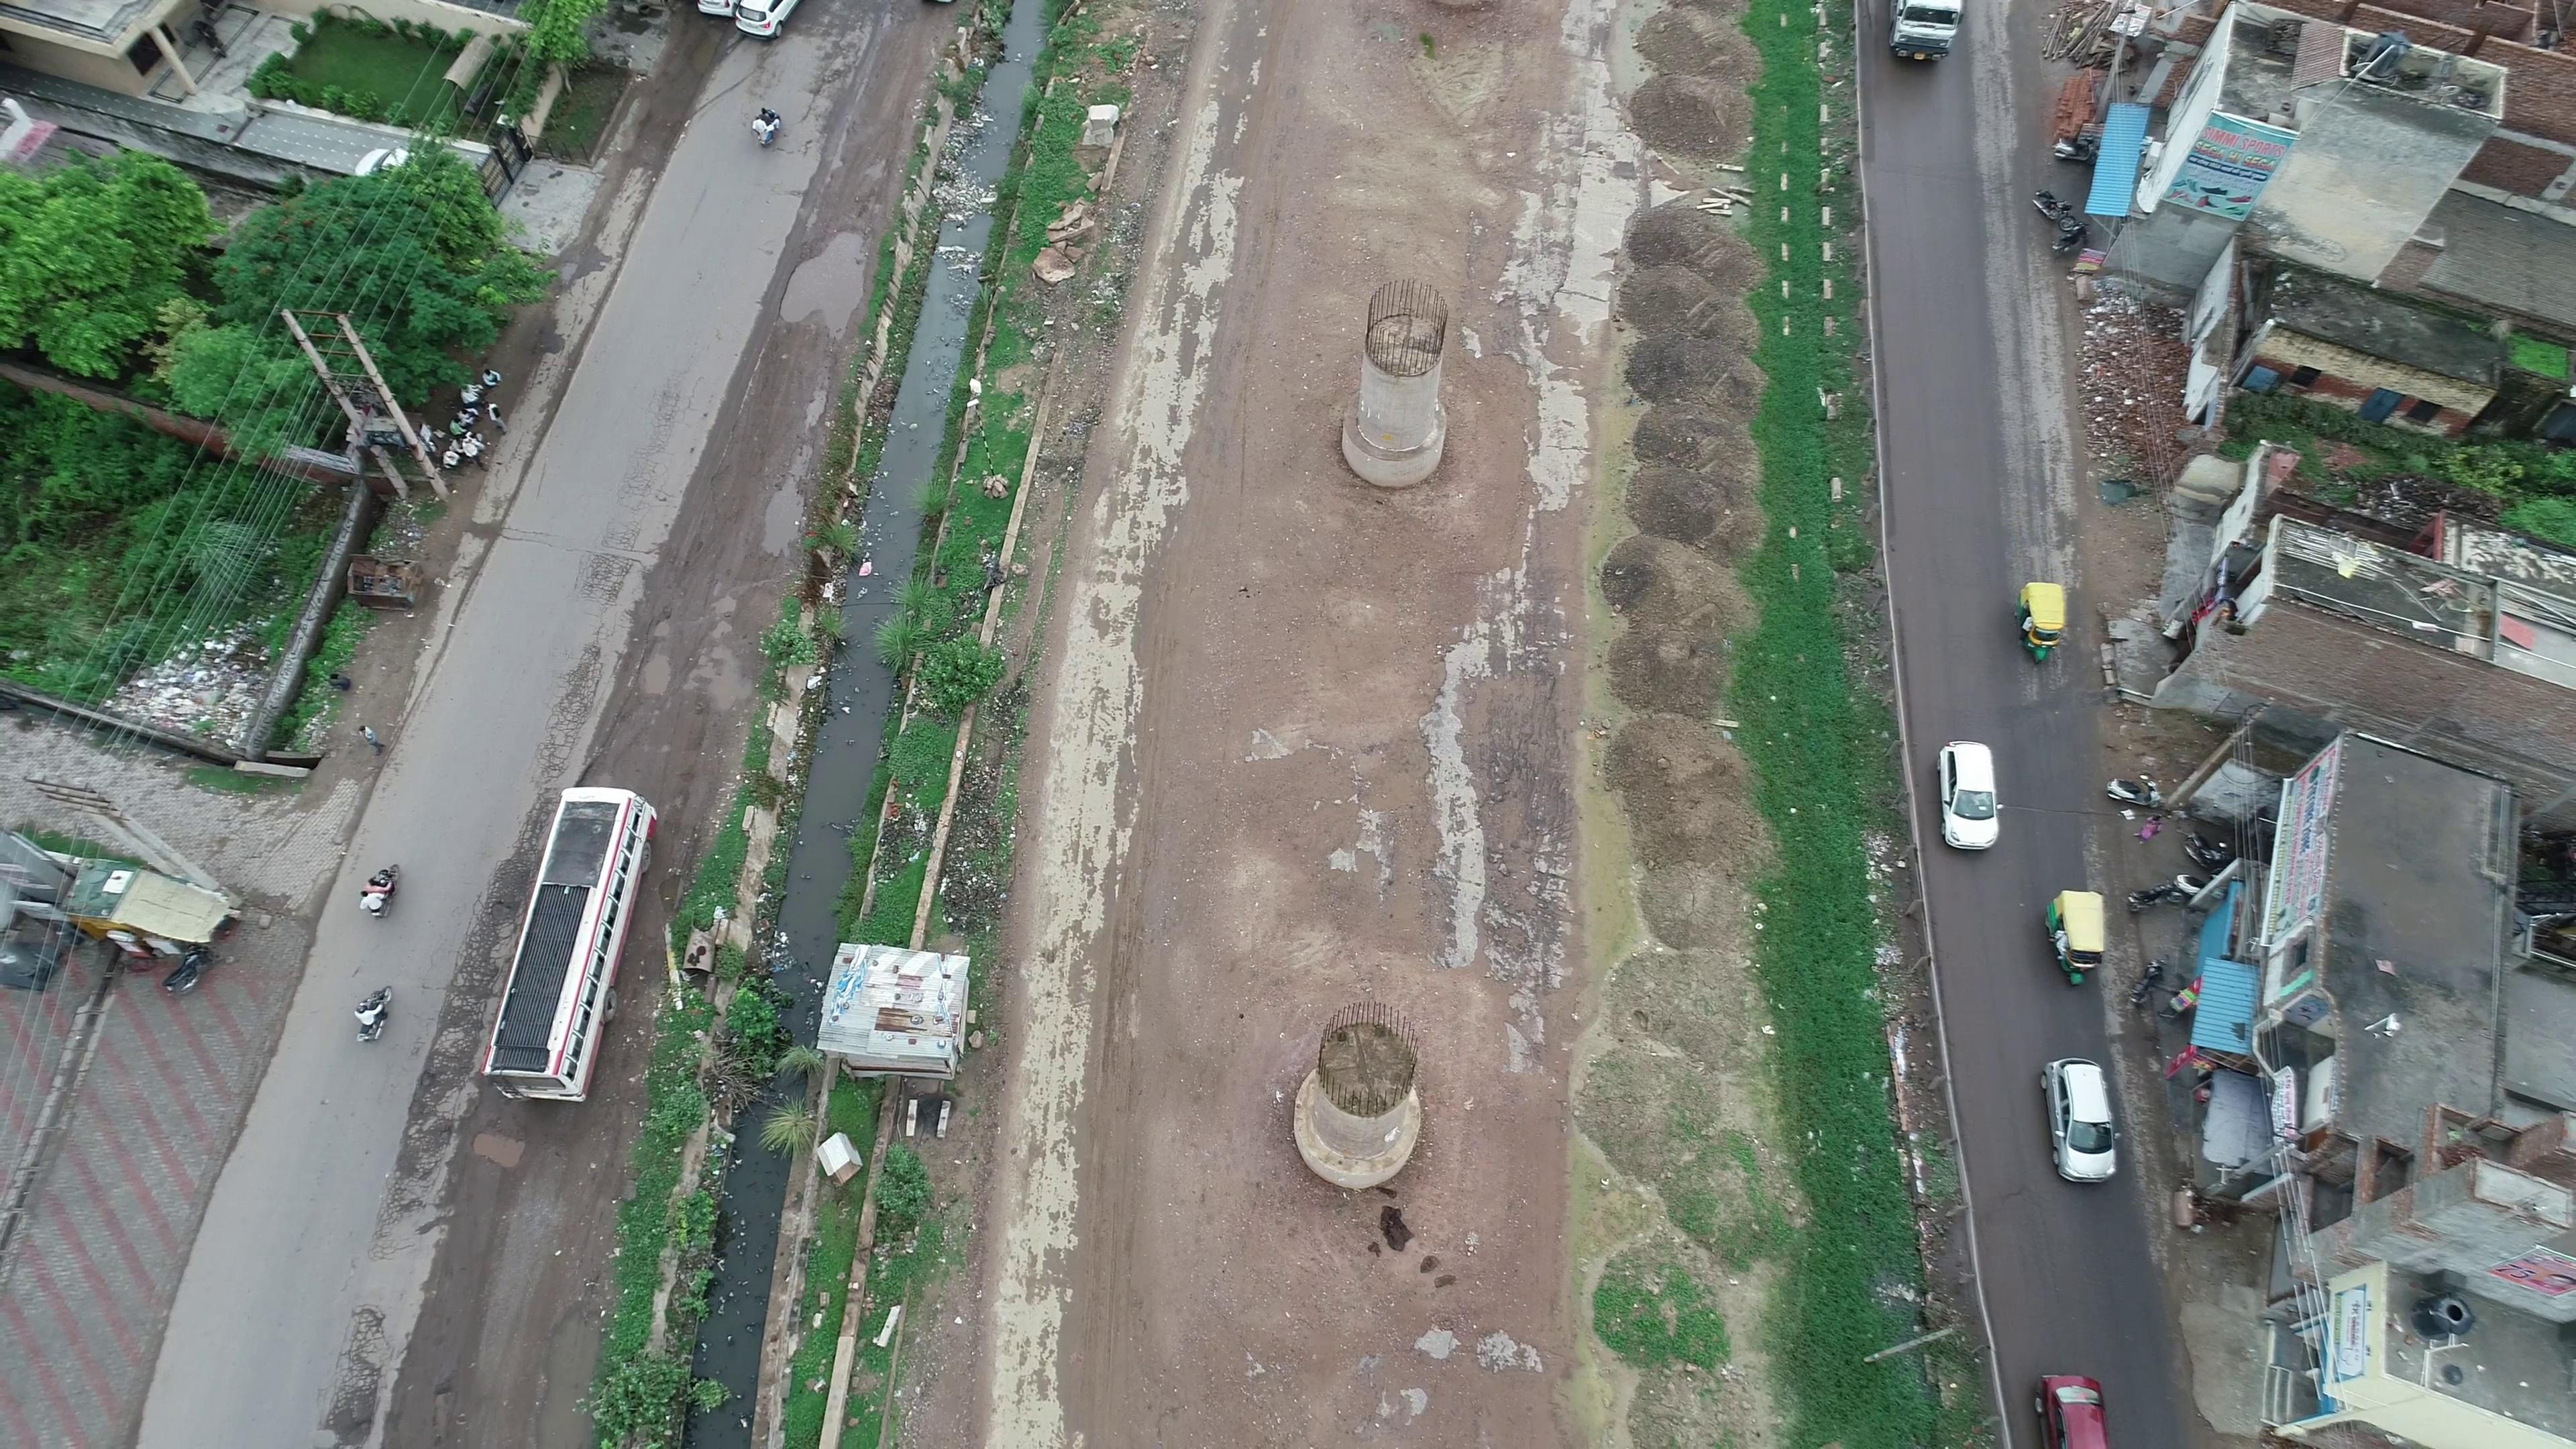Alligator_cracks: (580, 389, 683, 594), (529, 633, 609, 786), (430, 929, 511, 1056), (361, 1150, 455, 1260), (326, 1297, 410, 1376), (488, 794, 547, 888)
Potholes: (403, 1063, 467, 1152), (479, 888, 520, 934)
